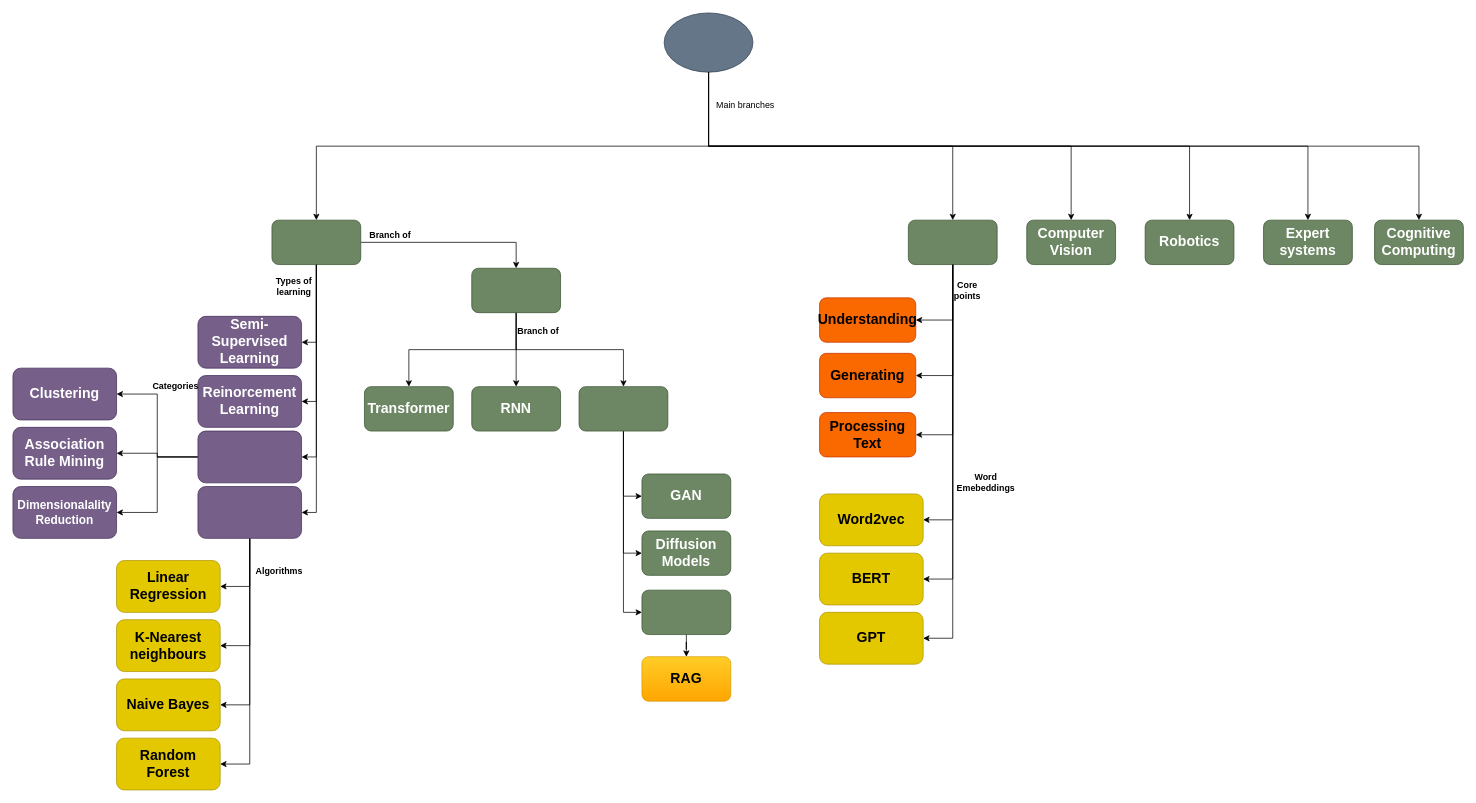
Image size: 1476x803. Some labels were removed from this diagram. The centre of each missing label's shape, as x and y in pixels:
AI: the point at 708,42
Generative AI: the point at 623,408
Machine Learning: the point at 316,242
Neural Networks: the point at 516,290
NLP: the point at 952,242
Parametric AI: the point at 686,612
Supervised Learning: the point at 249,512
Unsupervised Learning: the point at 249,456
